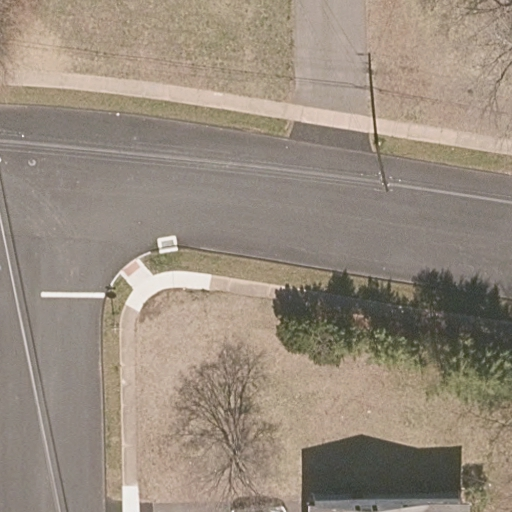DT: (371, 135, 398, 196)
